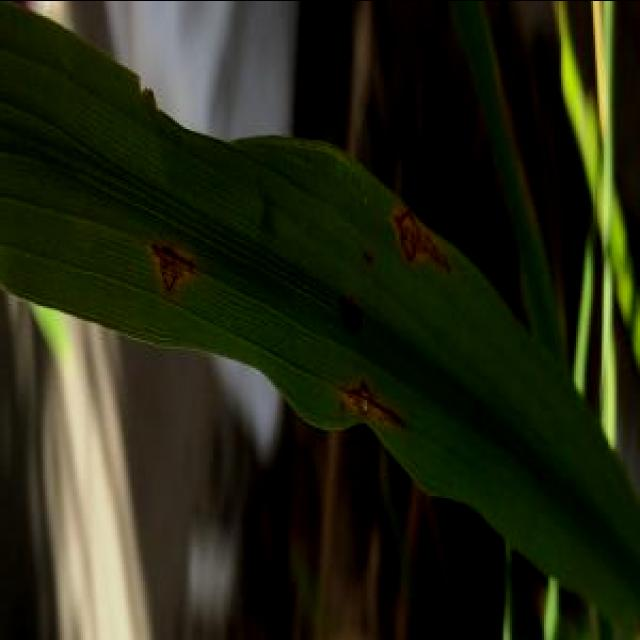Brown_Spot: (136, 230, 220, 305), (332, 370, 412, 438), (391, 201, 449, 278)
